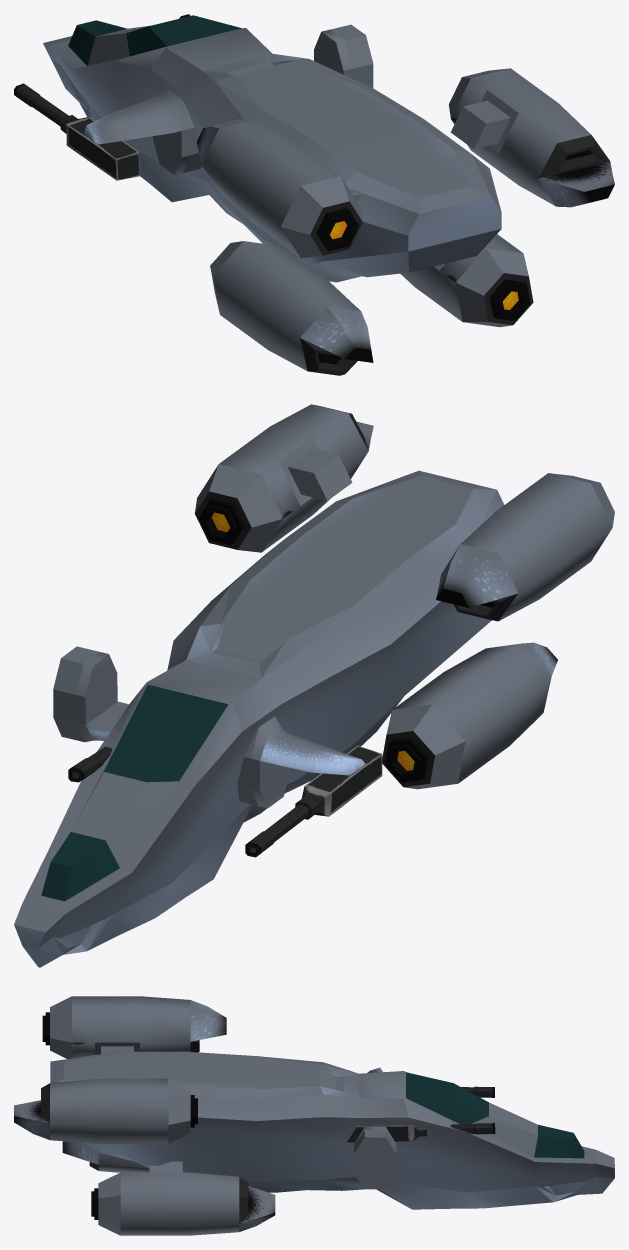
File: Gunship2.FBX
3 views of the same model, one above another, from view 1: azimuth 30°, elevation 25°; view 2: azimuth 150°, elevation 25°; view 3: azimuth 270°, elevation 25° (orthographic). The views are drawn at different scales.
Visible parts, largest first — view 1: Hull, Engine008, Engine007, Engine009, Engine005, Cylinder001, LTurret002, Cylinder002; view 2: Hull, Engine009, Engine008, Engine007, Cylinder001, Cylinder002, LTurret002, LTurret003; view 3: Hull, Engine005, Engine008, Engine007, Cylinder002, Engine009, LTurret003.
Part boxes in pixels (x1=…): Hull: x1=43, y1=15, x2=501, y2=282; Engine008: x1=448, y1=68, x2=614, y2=207; Engine007: x1=196, y1=119, x2=362, y2=257; Engine009: x1=210, y1=241, x2=373, y2=375; Engine005: x1=400, y1=234, x2=533, y2=327; Cylinder001: x1=83, y1=89, x2=201, y2=174; LTurret002: x1=14, y1=83, x2=139, y2=180; Cylinder002: x1=314, y1=24, x2=373, y2=87; Hull: x1=14, y1=470, x2=504, y2=967; Engine009: x1=382, y1=642, x2=557, y2=789; Engine008: x1=194, y1=404, x2=373, y2=552; Engine007: x1=436, y1=473, x2=614, y2=621; Cylinder001: x1=237, y1=716, x2=365, y2=808; Cylinder002: x1=53, y1=646, x2=128, y2=742; LTurret002: x1=245, y1=745, x2=382, y2=857; LTurret003: x1=68, y1=746, x2=112, y2=782; Hull: x1=50, y1=1051, x2=614, y2=1209; Engine005: x1=91, y1=1161, x2=275, y2=1235; Engine008: x1=14, y1=1073, x2=197, y2=1143; Engine007: x1=42, y1=996, x2=226, y2=1058; Cylinder002: x1=354, y1=1127, x2=396, y2=1189; Engine009: x1=62, y1=1141, x2=149, y2=1172; LTurret003: x1=346, y1=1123, x2=495, y2=1143.
Size of the model in its own units: 37.58 by 25.66 by 86.64.
7 materials, 7 textured.
